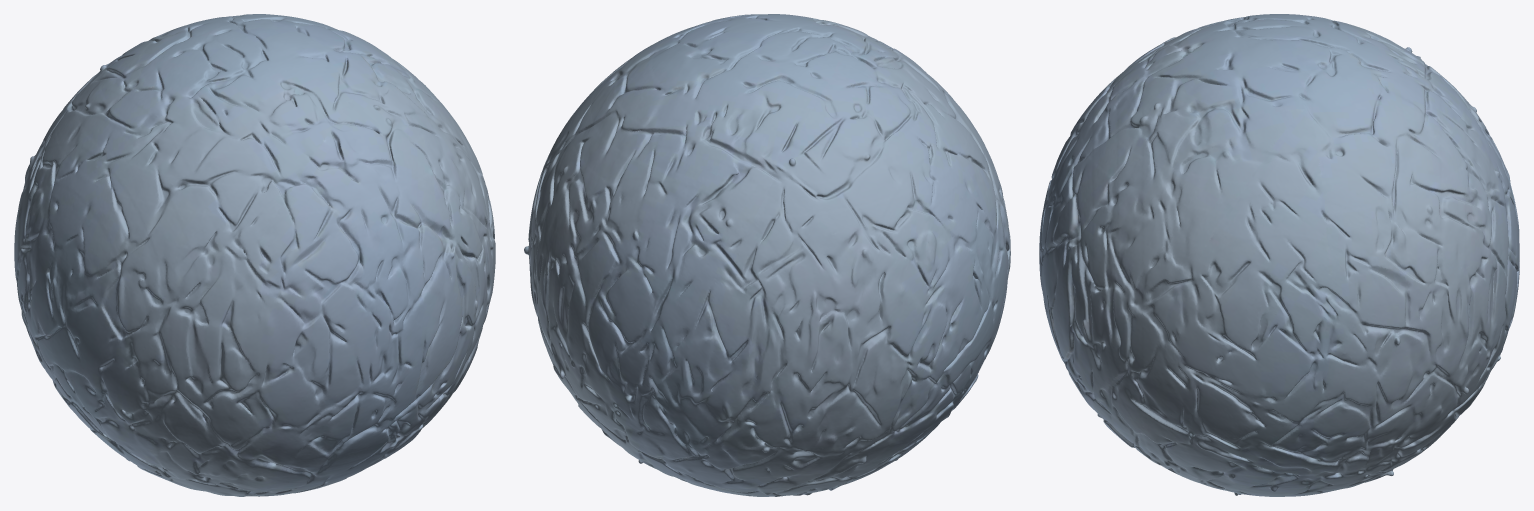
File: detailed_realistic_model_crystalball_10.glb
3 views of the same model, side by side, from view 1: azimuth 30°, elevation 25°; view 2: azimuth 150°, elevation 25°; view 3: azimuth 270°, elevation 25° (orthographic).
Visible parts, largest first — view 1: tripo_node_ca01cb97-77f9-4d5b-97f5-b515de149bec; view 2: tripo_node_ca01cb97-77f9-4d5b-97f5-b515de149bec; view 3: tripo_node_ca01cb97-77f9-4d5b-97f5-b515de149bec.
Part boxes in pixels (x1,y1,x2,y2): tripo_node_ca01cb97-77f9-4d5b-97f5-b515de149bec: [14, 14, 495, 496]; tripo_node_ca01cb97-77f9-4d5b-97f5-b515de149bec: [524, 14, 1010, 496]; tripo_node_ca01cb97-77f9-4d5b-97f5-b515de149bec: [1039, 14, 1519, 496].
Bounding box in the file's own units: 1 × 0.9986 × 0.998.
1 material, 1 textured.
